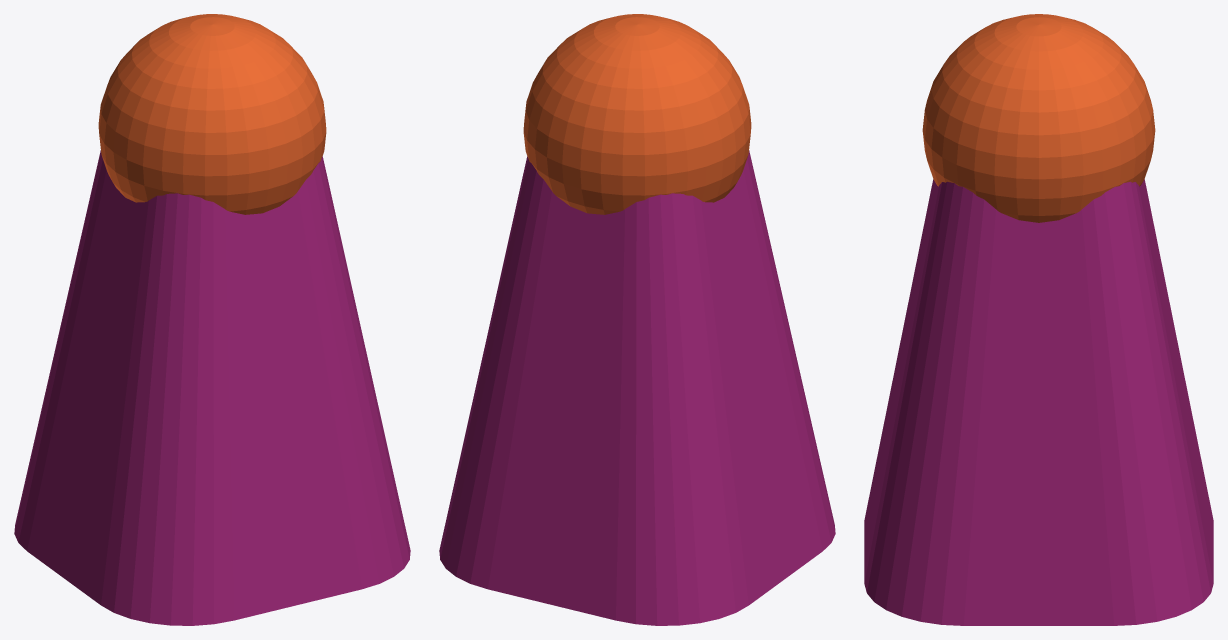
File: pion2.glb
3 views of the same model, side by side, from view 1: azimuth 30°, elevation 25°; view 2: azimuth 150°, elevation 25°; view 3: azimuth 270°, elevation 25° (orthographic).
Visible parts, largest first — view 1: Sphere.001; view 2: Sphere.001; view 3: Sphere.001.
Boxes of the visible parts, bbox=[...] form: Sphere.001: bbox=[14, 14, 410, 625]; Sphere.001: bbox=[439, 14, 835, 625]; Sphere.001: bbox=[864, 14, 1213, 625].
Bounding box in the file's own units: 0.375 × 0.625 × 0.375.
